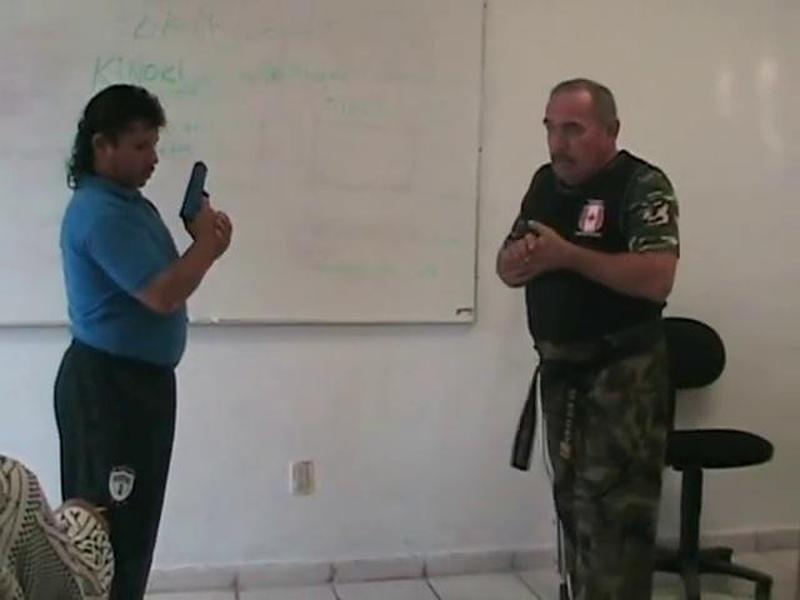Pistola: (171, 152, 244, 252)
